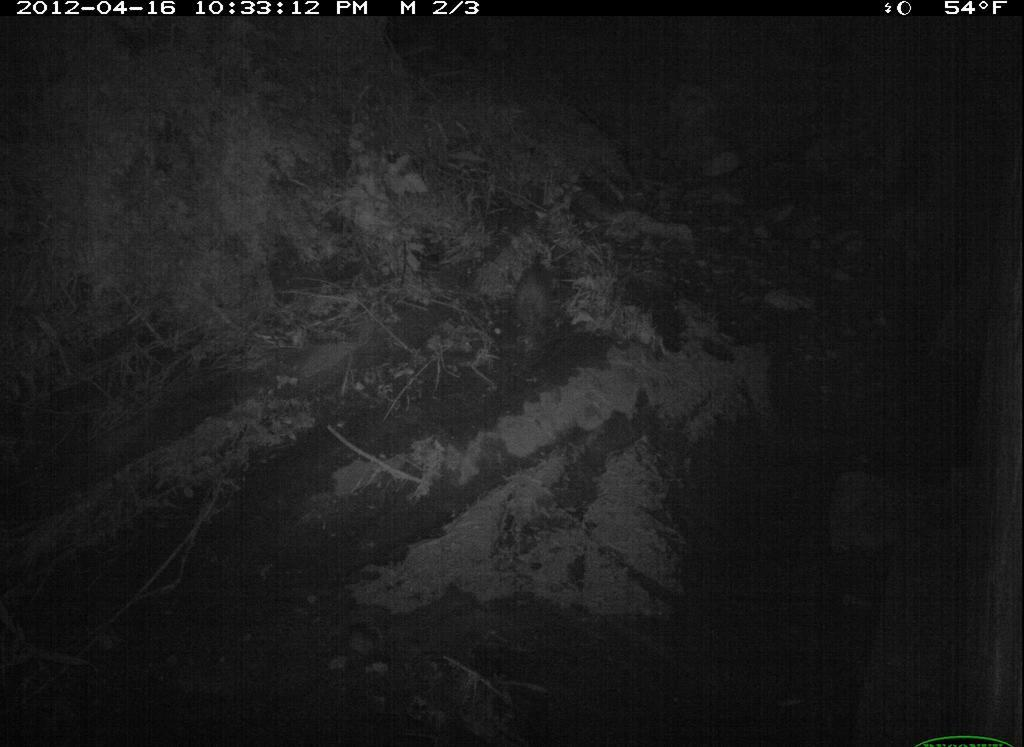opossum: (495, 250, 580, 378)
